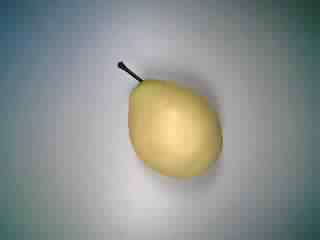pear: (105, 53, 228, 187)
